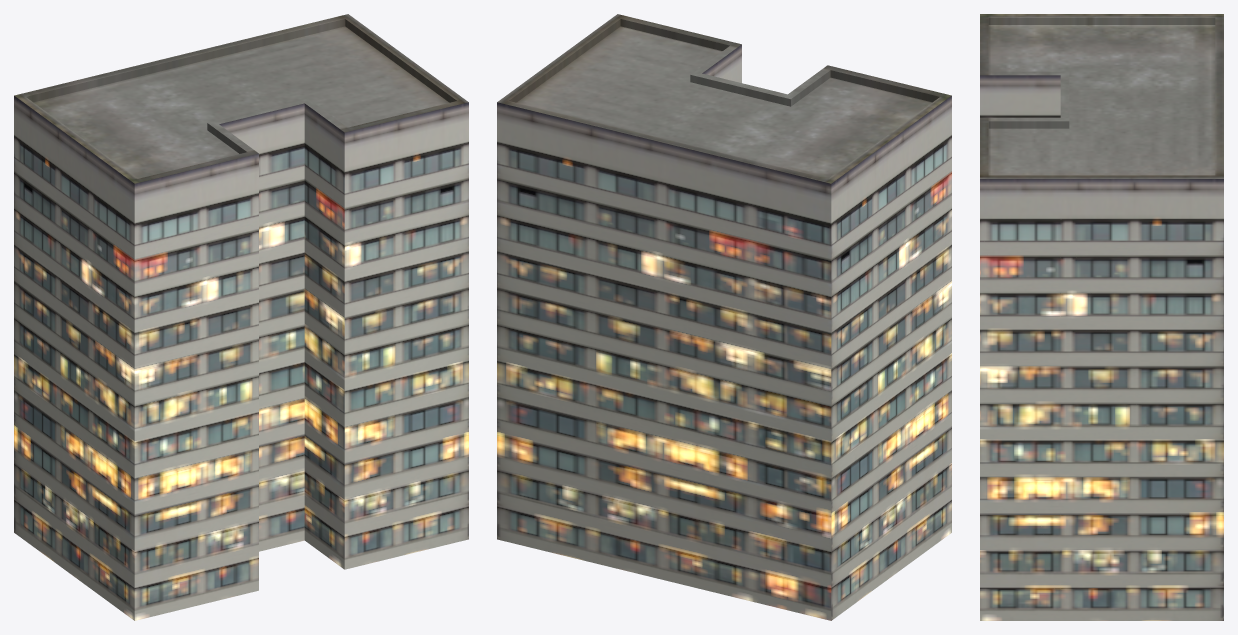
File: Building_Grey_Bg.fbx
3 views of the same model, side by side, from view 1: azimuth 30°, elevation 25°; view 2: azimuth 150°, elevation 25°; view 3: azimuth 270°, elevation 25° (orthographic).
Parts seen in each view (by area): view 1: Building_Grey_Bg; view 2: Building_Grey_Bg; view 3: Building_Grey_Bg.
Part boxes in pixels (left/top/right/bottom): Building_Grey_Bg: left=14, top=14, right=468, bottom=620; Building_Grey_Bg: left=497, top=14, right=951, bottom=620; Building_Grey_Bg: left=980, top=14, right=1223, bottom=620.
Size of the model in its own units: 849 by 1061 by 530.
Materials: 1 (1 with a texture image).
